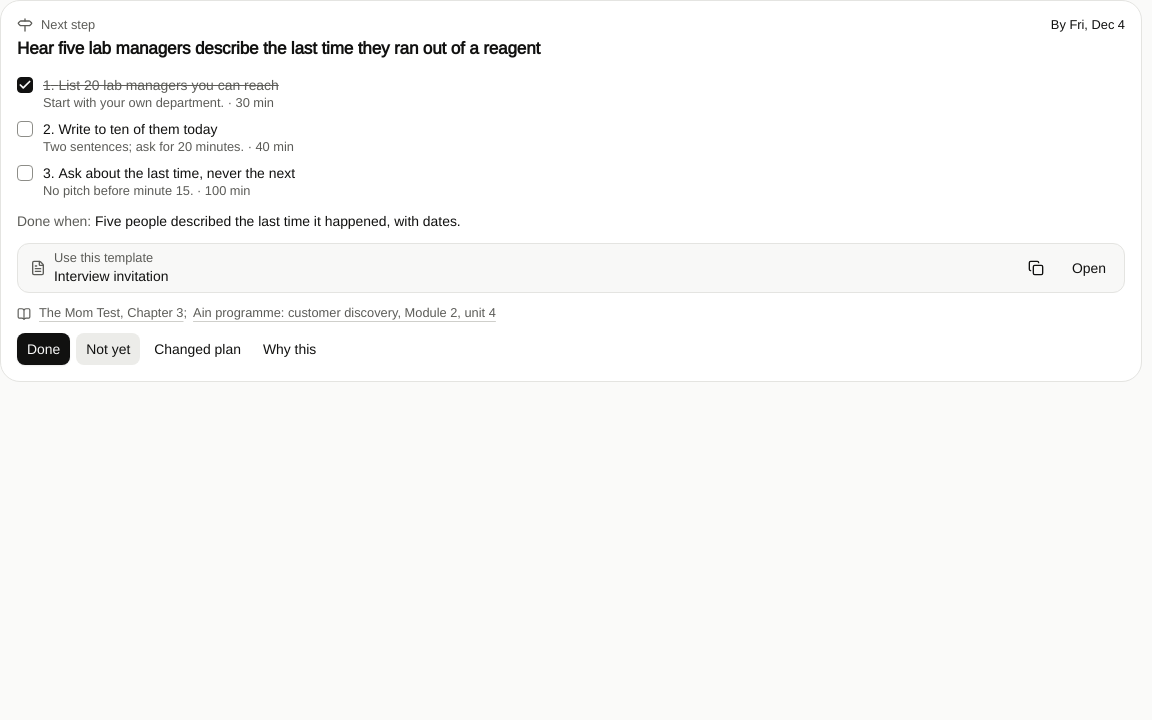
StepCard › the template opens whole, ready to copy
This screenshot has width=1152, height=720.
Click the button with aria-label "Open template: Interview invitation".
click(1089, 268)  # box x1=1060 y1=252 x2=1118 y2=284
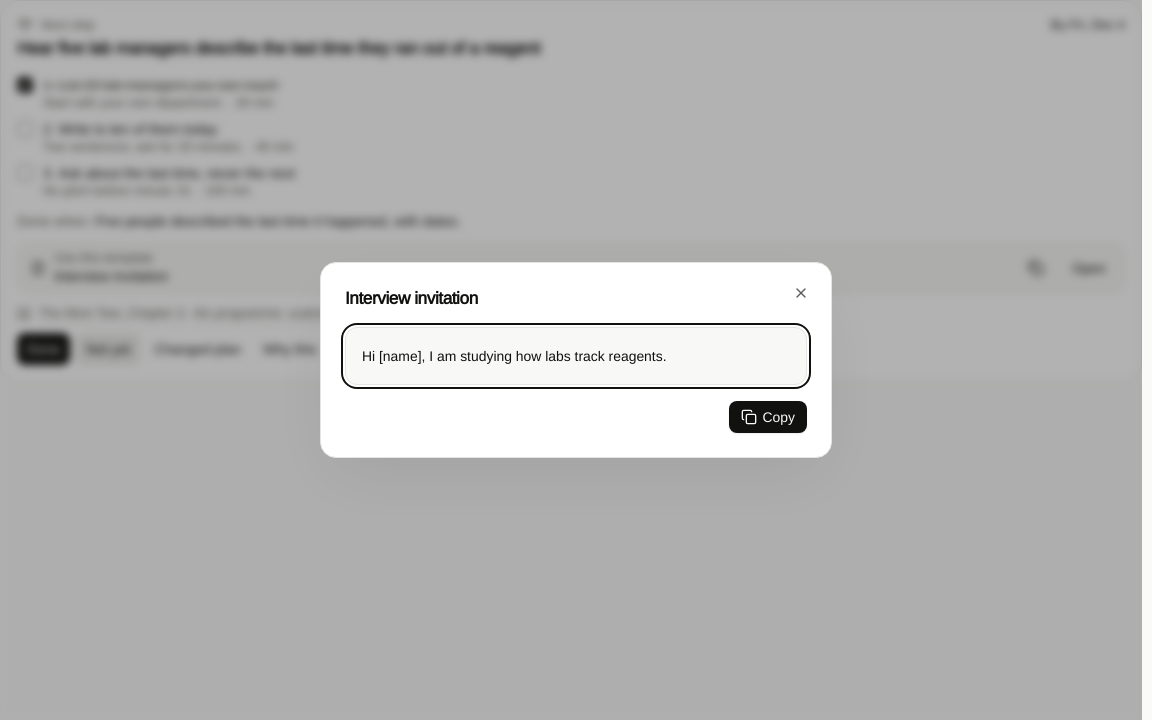
Result: the dialog "Interview invitation" shows "Hi [name], I am studying how labs track reagents." at x1=362 y1=348 x2=666 y2=364
Result: the button "Copy" is shown at x1=728 y1=401 x2=807 y2=433
